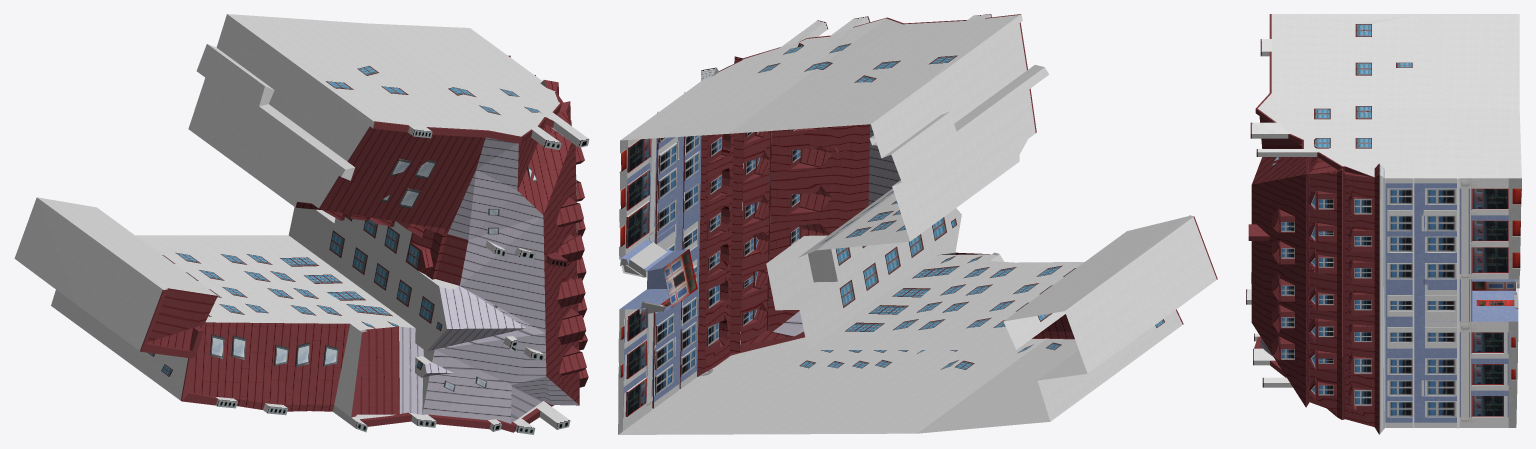
The model's file is Suur_Karja_4-origo.obj.
The picture shows the model from 3 angles, left to right: view 1: azimuth 30°, elevation 25°; view 2: azimuth 150°, elevation 25°; view 3: azimuth 270°, elevation 25°; orthographic projection. The views are drawn at different scales.
Visible parts, largest first — view 1: Suur_Karja_4; view 2: Suur_Karja_4; view 3: Suur_Karja_4.
Part boxes in pixels (x1,y1,x2,y2): Suur_Karja_4: [14, 14, 589, 434]; Suur_Karja_4: [618, 14, 1217, 434]; Suur_Karja_4: [1246, 14, 1521, 434].
Bounding box in the file's own units: 39.31 × 30 × 23.74.
